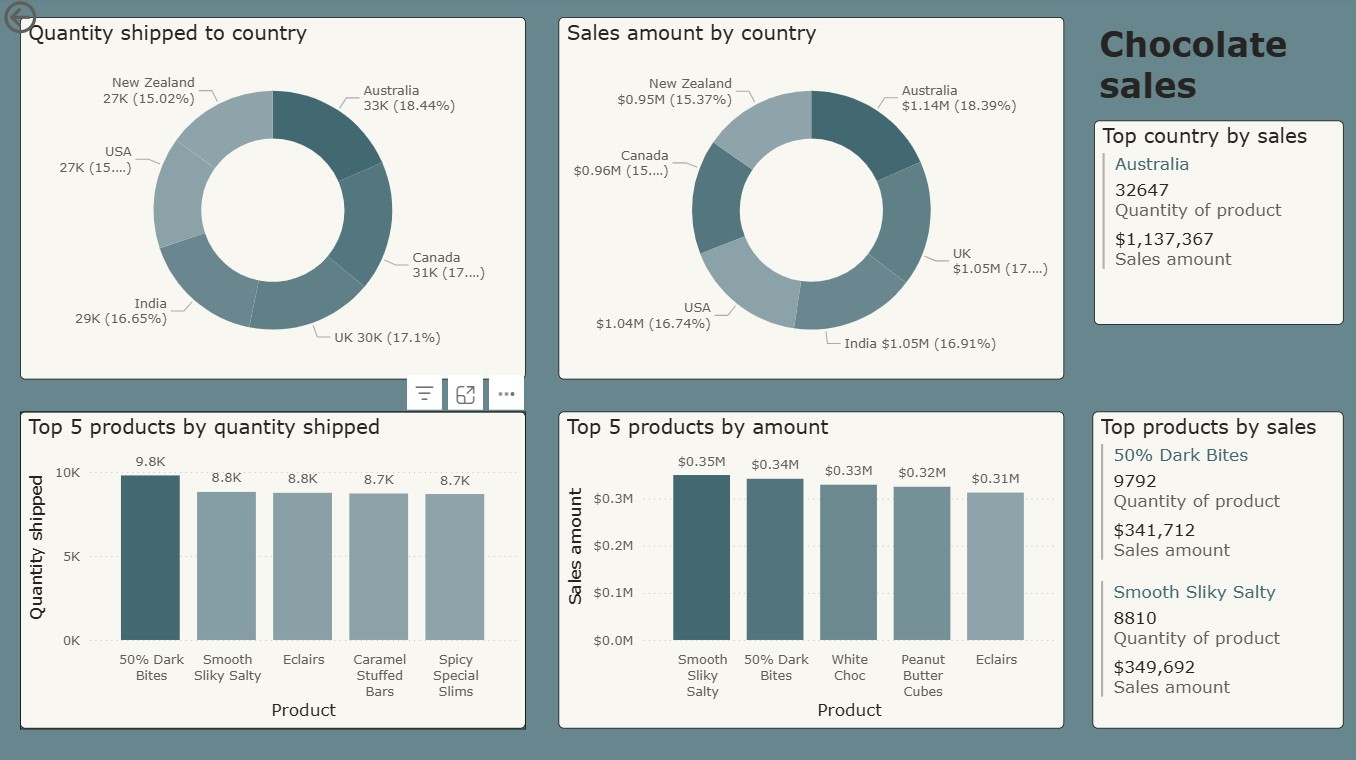

What the dashboard file says about the page in this screenshot:
{"tool":"powerbi","page":{"name":"Country and product","canvas":[1280,720],"ordinal":1},"visuals":[{"type":"donutChart","title":"Sales amount by country","fields":{"Category":["Chocolate Sales.Country"],"Y":["Sum(Chocolate Sales.Amount)"]},"box":[525.4,19.7,475.5,340.7],"z":0},{"type":"donutChart","title":"Quantity shipped to country","fields":{"Category":["Chocolate Sales.Country"],"Y":["Sum(Chocolate Sales.Boxes Shipped)"]},"box":[19.7,19.7,475.5,340.7],"z":1000},{"type":"actionButton","box":[0,0,100,40],"z":2000},{"type":"columnChart","title":"Top 5 products by quantity shipped","fields":{"Category":["Chocolate Sales.Product"],"Y":["Sum(Chocolate Sales.Boxes Shipped)"]},"box":[19.7,390.7,475.5,298.3],"z":3000},{"type":"columnChart","title":"Top 5 products by amount","fields":{"Category":["Chocolate Sales.Product"],"Y":["Sum(Chocolate Sales.Amount)"]},"box":[525.4,390.7,475.5,298.3],"z":4000},{"type":"multiRowCard","title":"Top country by sales","fields":{"Values":["Chocolate Sales.Country","Sum(Chocolate Sales.Boxes Shipped)","Sum(Chocolate Sales.Amount)"]},"box":[1028.9,116.6,234.9,191.7],"z":5000},{"type":"multiRowCard","title":"Top products by sales","fields":{"Values":["Chocolate Sales.Product","Sum(Chocolate Sales.Boxes Shipped)","Sum(Chocolate Sales.Amount)"]},"box":[1028.1,390.7,236.2,298.3],"z":6000},{"type":"textbox","box":[1028.9,19.2,228.5,97.5],"z":7000}]}

Visuals, with their boxes in screenshot pixels (x1, y1, x2, y2), scaled from the page's 1280x720 canvas onto the 1356x760 screenshot:
"Sales amount by country" donutChart: 557/21/1060/380
"Quantity shipped to country" donutChart: 21/21/525/380
actionButton: 0/0/106/42
"Top 5 products by quantity shipped" columnChart: 21/412/525/727
"Top 5 products by amount" columnChart: 557/412/1060/727
"Top country by sales" multiRowCard: 1090/123/1339/325
"Top products by sales" multiRowCard: 1089/412/1339/727
textbox: 1090/20/1332/123
